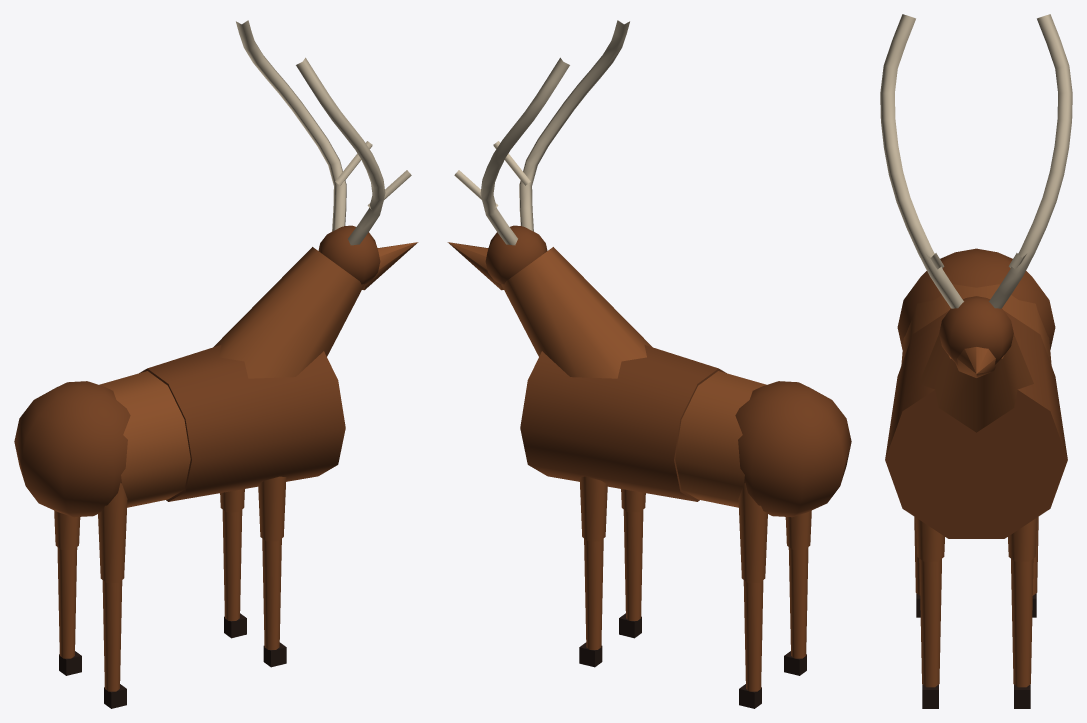
The model's file is red_deer_stag.glb.
The picture shows the model from 3 angles, left to right: view 1: azimuth 30°, elevation 25°; view 2: azimuth 150°, elevation 25°; view 3: azimuth 270°, elevation 25°; orthographic projection. The views are drawn at different scales.
Parts seen in each view (by area): view 1: Red_Deer_Stag; view 2: Red_Deer_Stag; view 3: Red_Deer_Stag.
Part boxes in pixels (<box>): Red_Deer_Stag: <box>14,20,418,708</box>; Red_Deer_Stag: <box>447,20,851,708</box>; Red_Deer_Stag: <box>880,14,1072,708</box>.
Size of the model in its own units: 2.55 by 3.72 by 0.9264.
